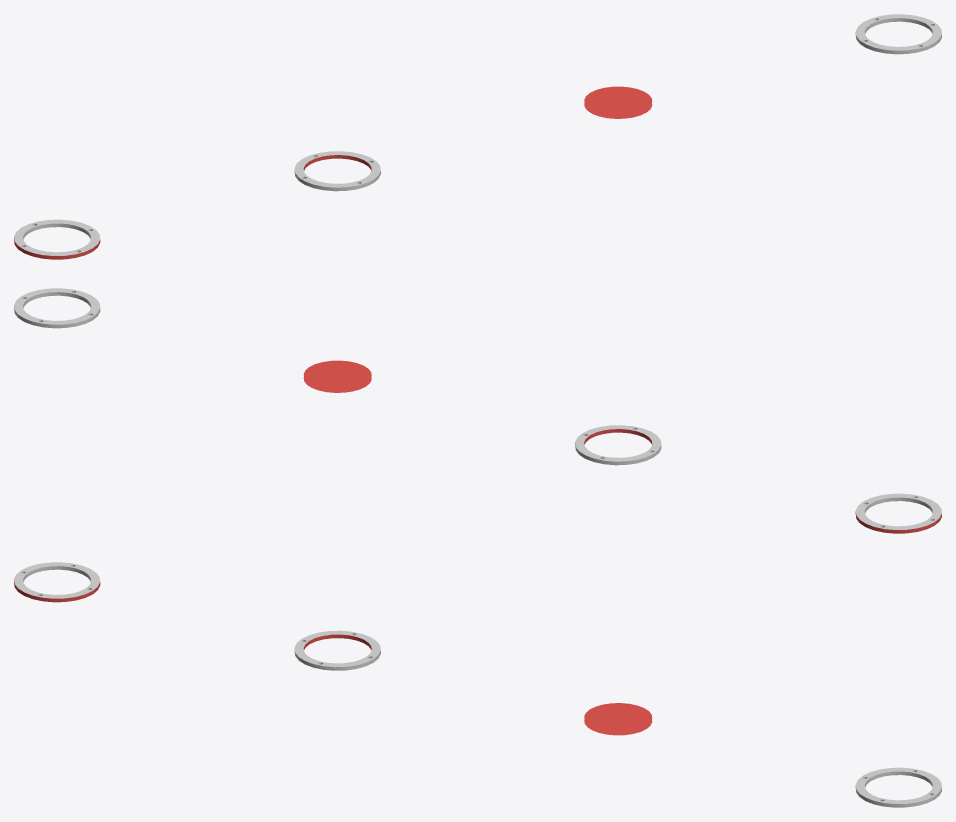
File: Locking Plate.fbx
The picture shows the model from 3 angles, top to bottom: view 1: azimuth 30°, elevation 25°; view 2: azimuth 150°, elevation 25°; view 3: azimuth 330°, elevation 25°; orthographic projection.
Parts seen in each view (by area): view 1: 5.A, 5.B, 5, 5.C; view 2: 5.A, 5, 5.C, 5.B; view 3: 5.A, 5, 5.C, 5.B.
Boxes of the visible parts, left/top/right/bottom form: 5.A: left=584, top=86, right=652, bottom=118; 5.B: left=294, top=151, right=380, bottom=191; 5: left=855, top=14, right=941, bottom=54; 5.C: left=14, top=219, right=100, bottom=259; 5.A: left=303, top=360, right=371, bottom=392; 5: left=14, top=288, right=100, bottom=328; 5.C: left=855, top=493, right=941, bottom=533; 5.B: left=575, top=425, right=661, bottom=465; 5.A: left=584, top=703, right=652, bottom=735; 5: left=855, top=767, right=941, bottom=807; 5.C: left=14, top=562, right=100, bottom=602; 5.B: left=294, top=630, right=380, bottom=670.
Size of the model in its own units: 327 by 1.23 by 26.63.
